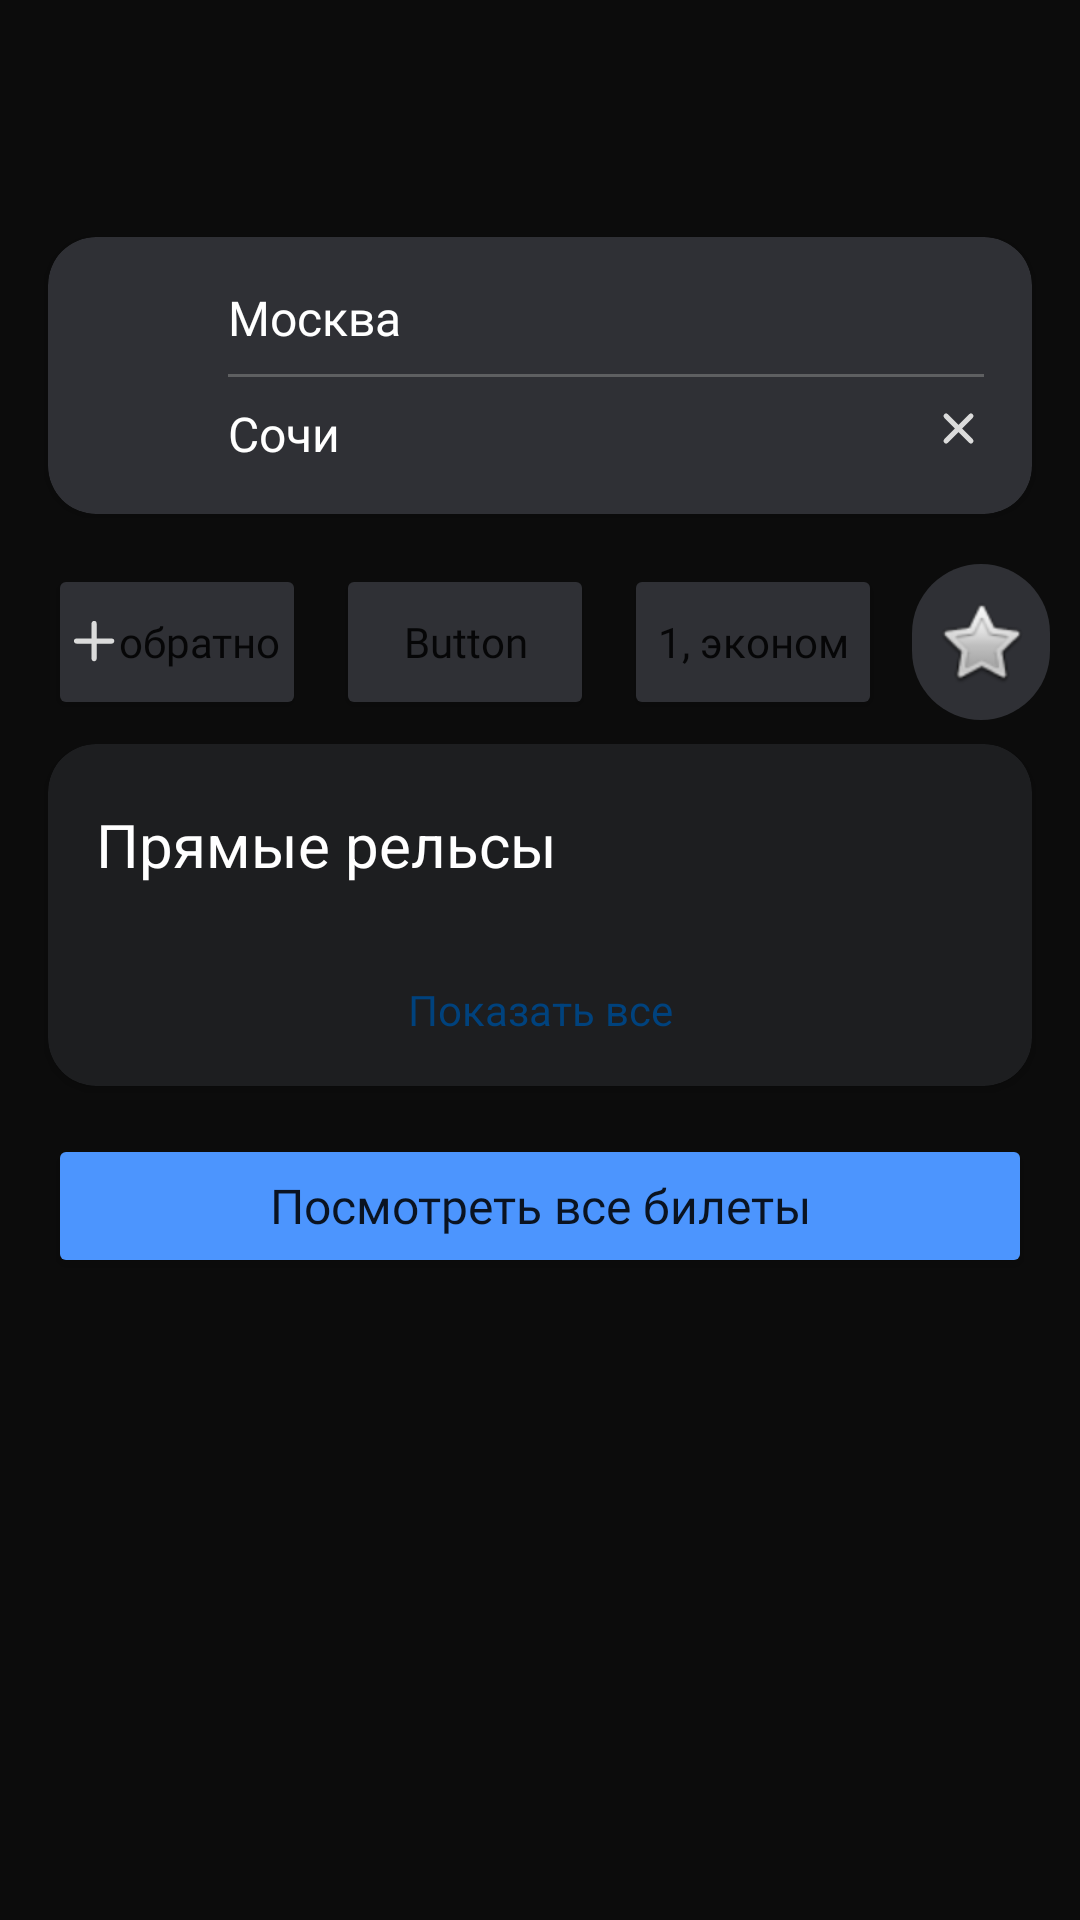

Icons on this 1080w x 1920h Android screen, each with its box as (x1, y1, x2, y2):
cancel: (943, 413, 974, 444)
star: (912, 564, 1050, 720)
